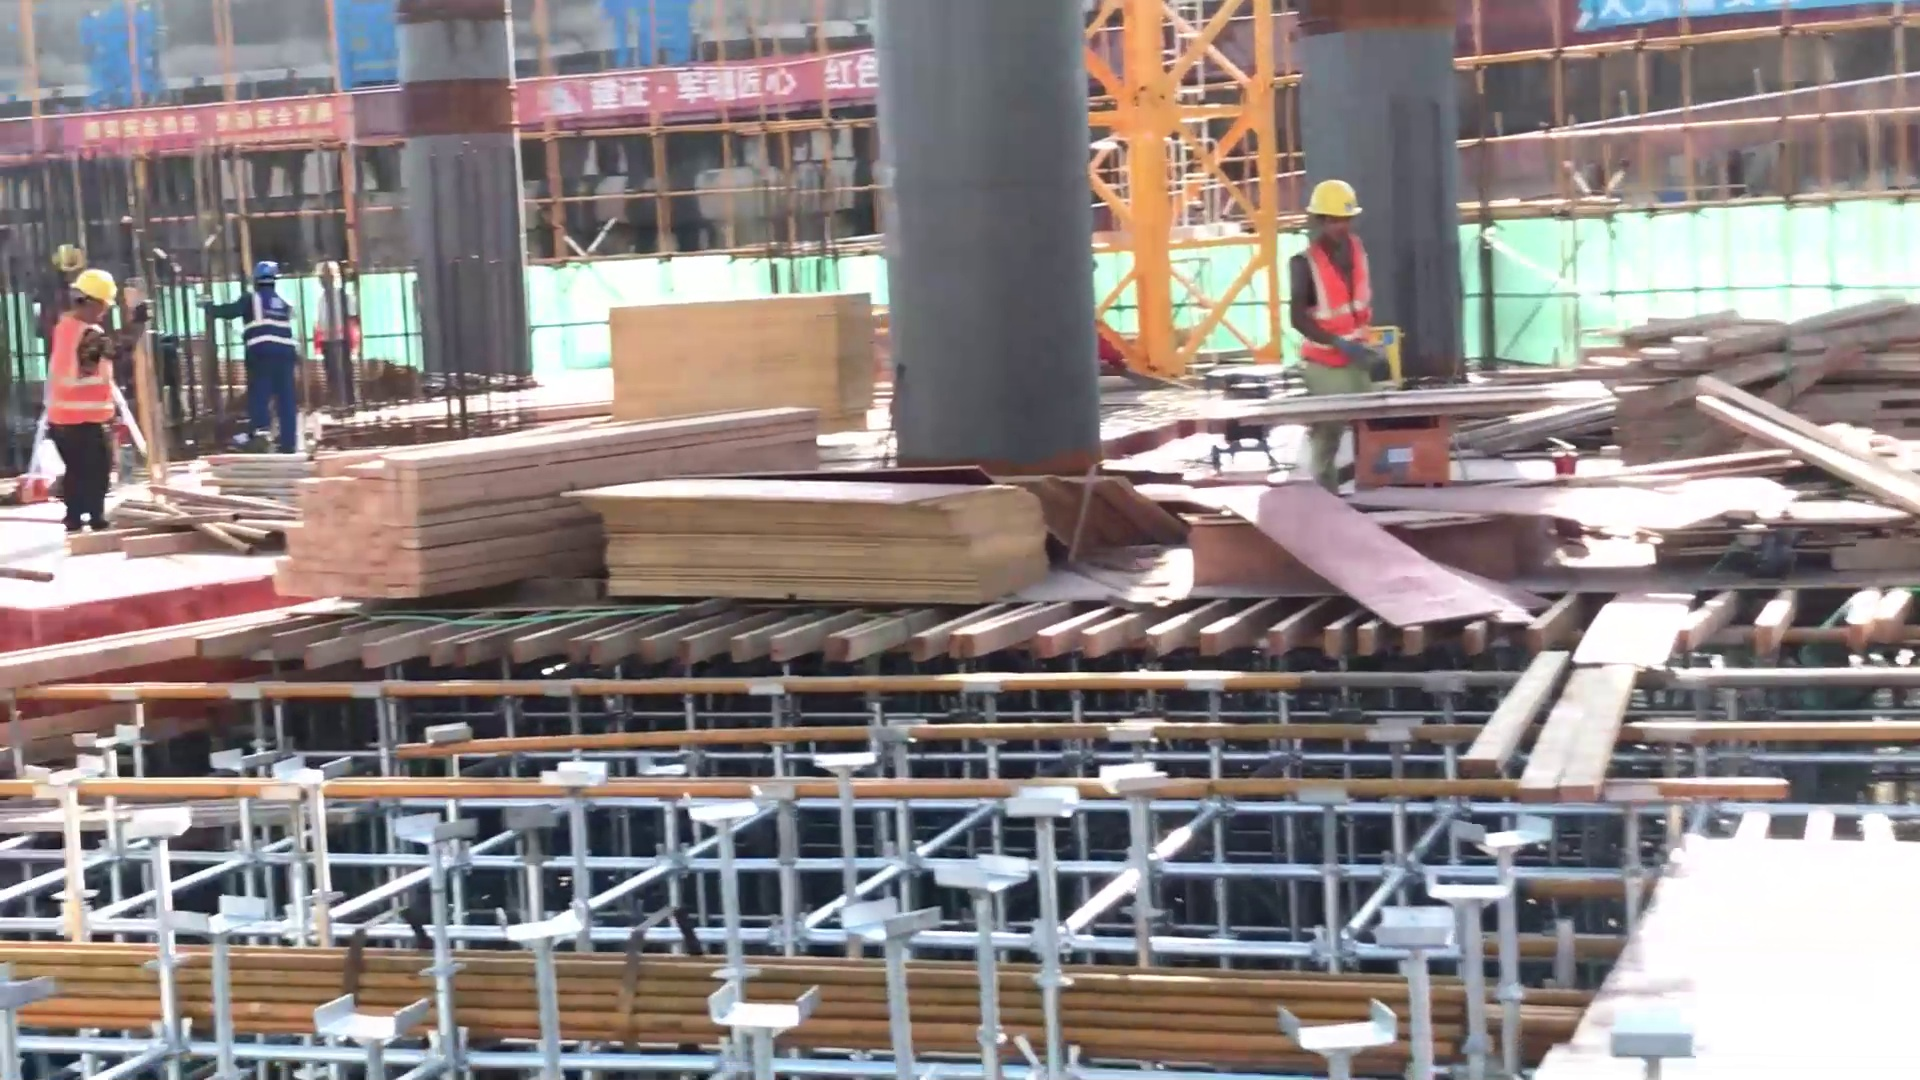board: (567, 487, 1070, 611)
helmet: (66, 256, 155, 316), (1309, 170, 1365, 218)
person: (1275, 153, 1402, 477), (197, 249, 324, 454), (27, 262, 121, 515), (297, 247, 371, 404)
slogan: (511, 38, 904, 106), (52, 97, 363, 142)
vest: (1292, 235, 1378, 366), (44, 301, 111, 427), (229, 274, 292, 347)
wood: (255, 426, 919, 589)
